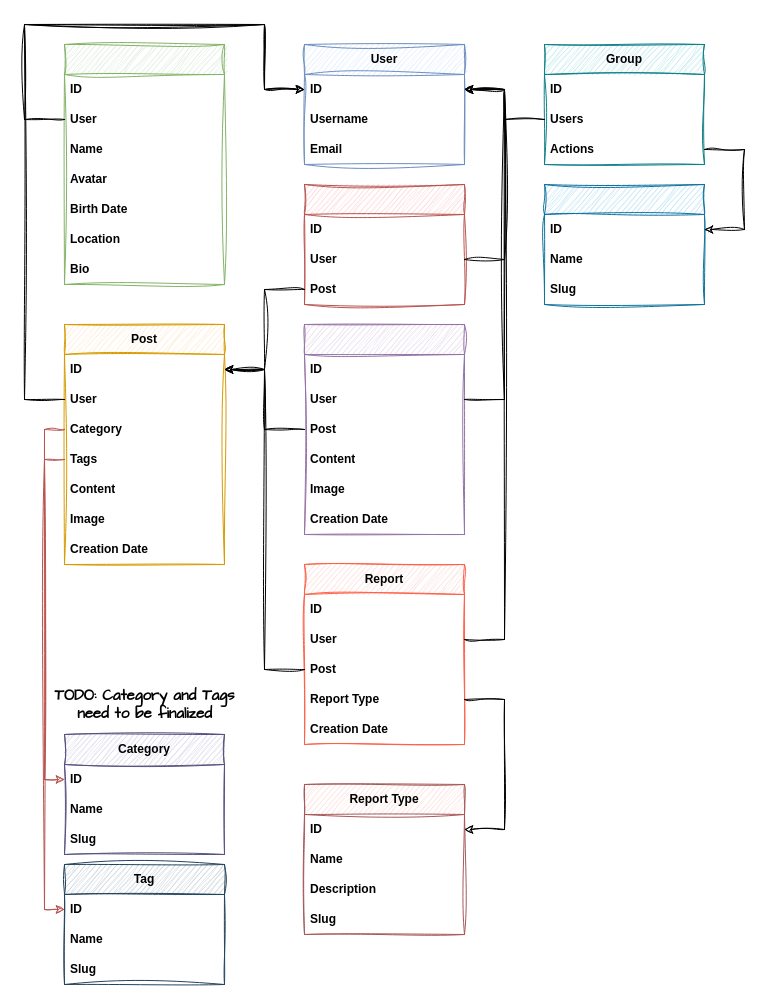
The diagram is 770 pixels wide and 1002 high, and some of its shapes have lost their labels. Each missing label, with the box of its shape:
Action: (544, 184, 704, 304)
Comment: (304, 324, 464, 534)
Like: (304, 184, 464, 304)
Profile: (64, 44, 224, 284)
